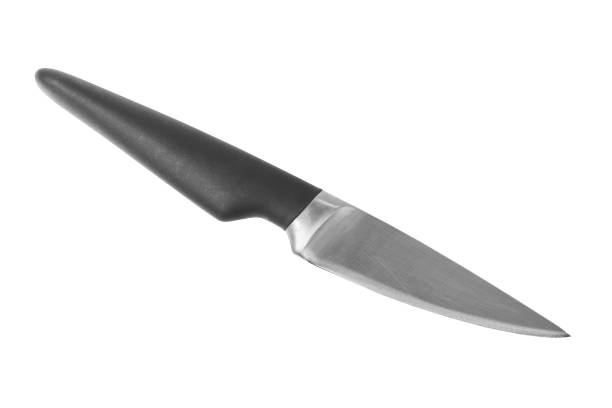k1: (235, 154, 576, 348)
